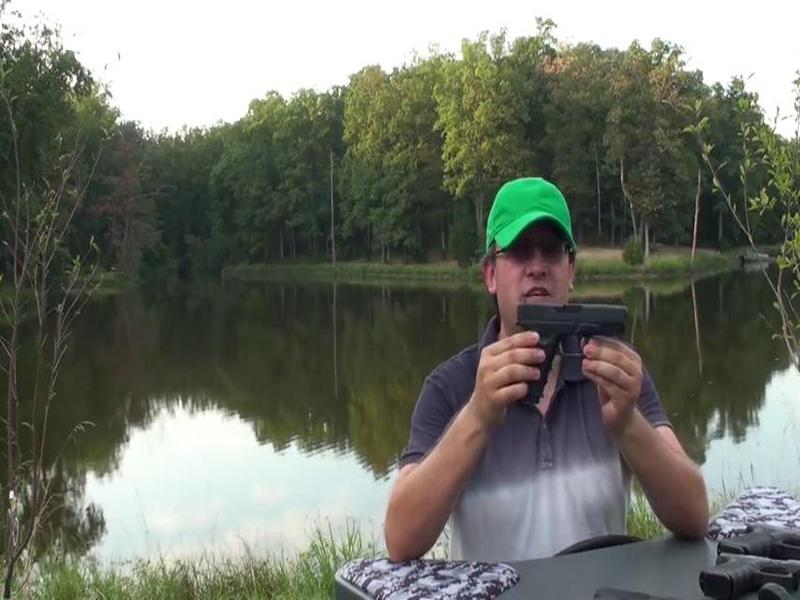Pistola: (502, 284, 633, 424)
